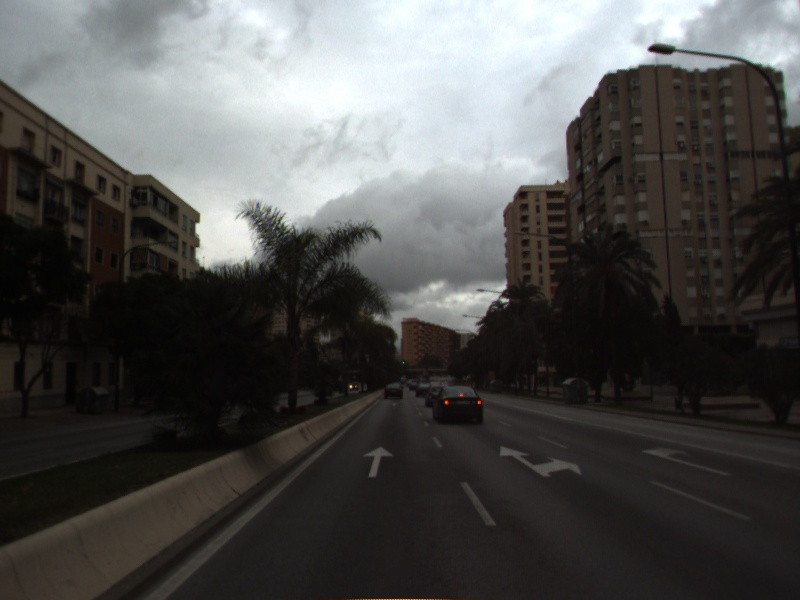RIGHT: (640, 444, 732, 477)
STRAIGHT: (361, 444, 395, 479)
STRAIGHT_RIGHT: (498, 444, 584, 479)
